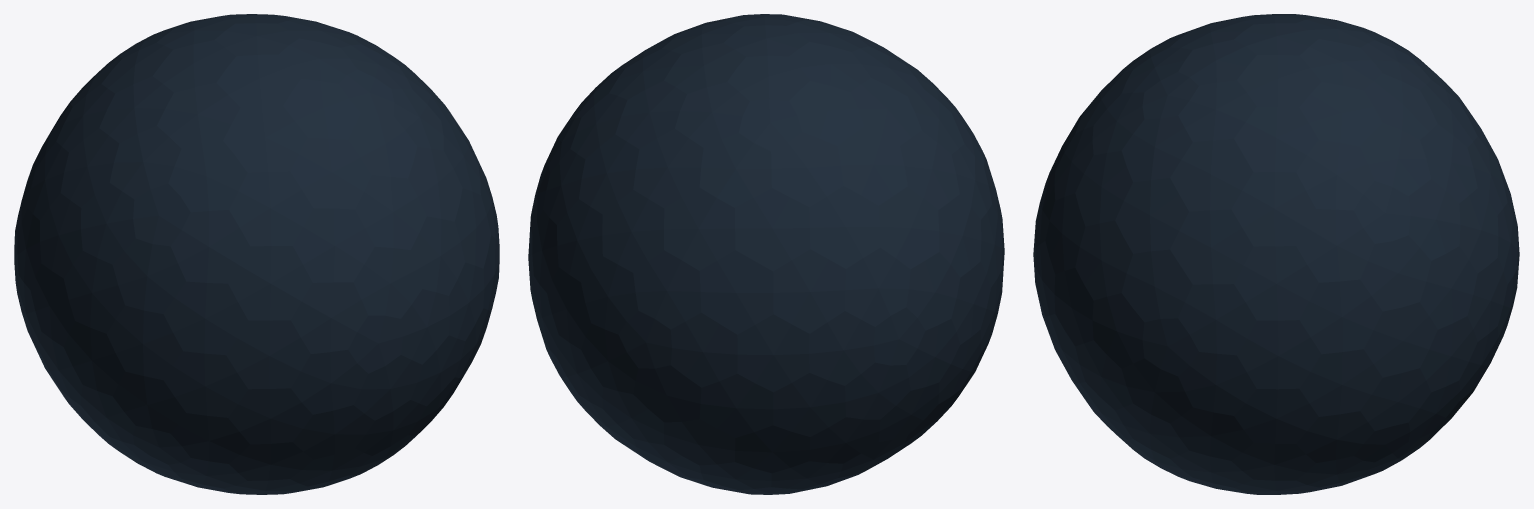
The model's file is Planet1Evo1.glb.
3 views of the same model, side by side, from view 1: azimuth 30°, elevation 25°; view 2: azimuth 150°, elevation 25°; view 3: azimuth 270°, elevation 25° (orthographic).
Parts seen in each view (by area): view 1: Icosphere.016; view 2: Icosphere.016; view 3: Icosphere.016.
Boxes of the visible parts, <box> form: Icosphere.016: <box>14,14,499,494</box>; Icosphere.016: <box>528,14,1004,494</box>; Icosphere.016: <box>1033,14,1519,494</box>.
Size of the model in its own units: 1.81 by 1.81 by 1.83.
